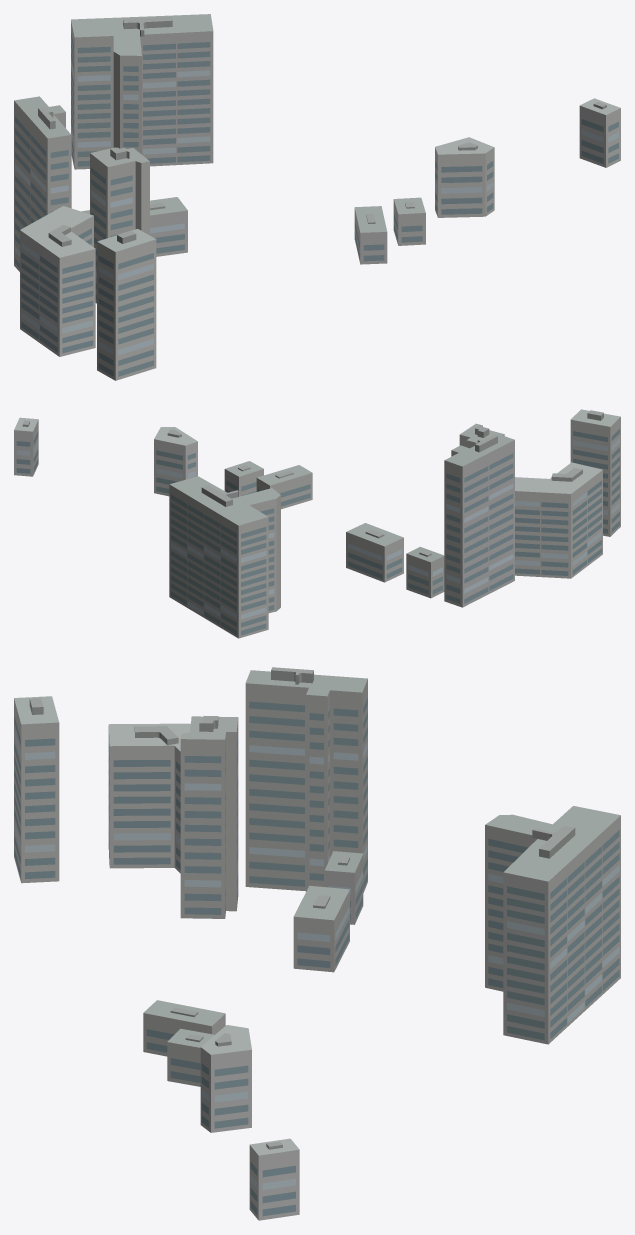
File: apt-a10023951.glb
3 views of the same model, one above another, from view 1: azimuth 30°, elevation 25°; view 2: azimuth 150°, elevation 25°; view 3: azimuth 270°, elevation 25° (orthographic). The views are drawn at different scales.
Parts seen in each view (by area): view 1: apt-a10023951; view 2: apt-a10023951; view 3: apt-a10023951.
Part boxes in pixels (box(x1,y1,x2,y2)): apt-a10023951: box(14, 14, 620, 380); apt-a10023951: box(14, 409, 620, 638); apt-a10023951: box(14, 667, 620, 1220).
Size of the model in its own units: 189 by 50 by 129.
